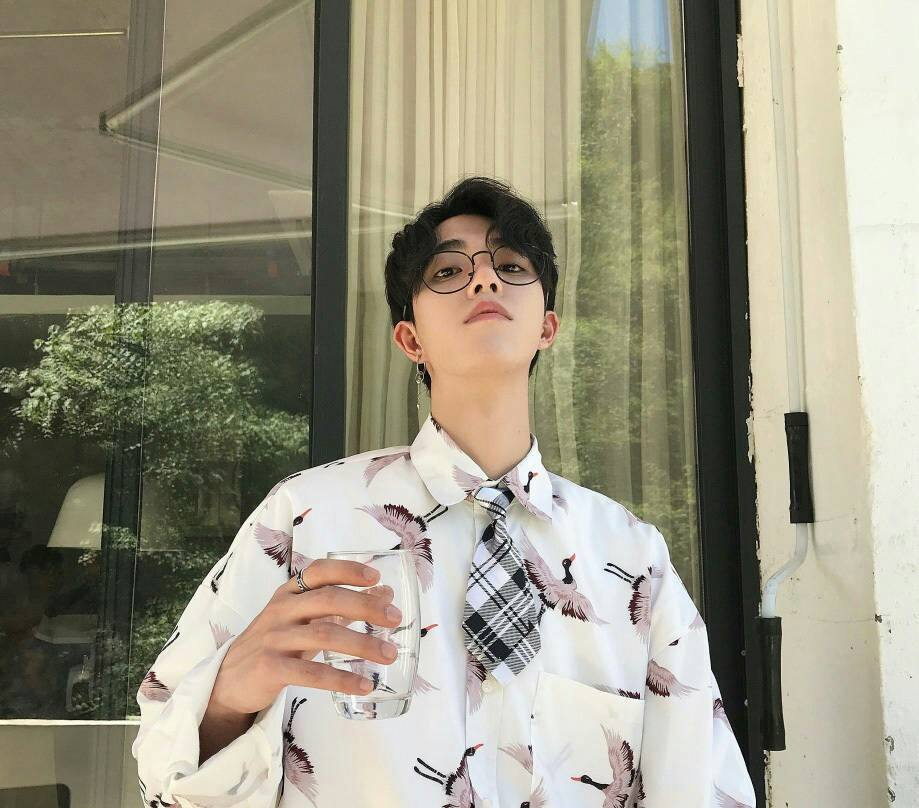person: (284, 138, 686, 796)
